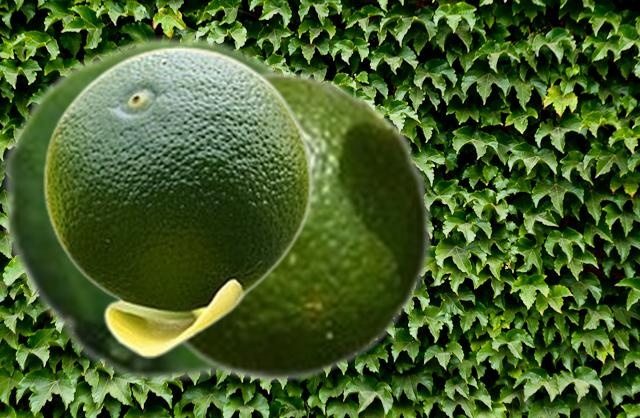calamansi: (1, 35, 289, 384), (43, 46, 312, 357), (177, 70, 433, 381)
